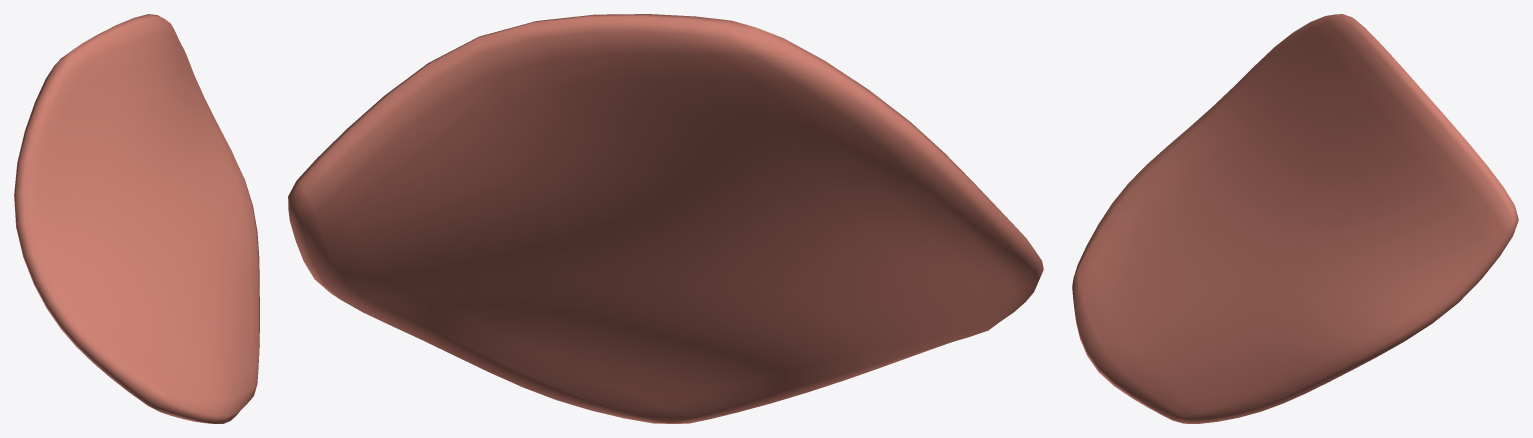
3 renders of one model, left to right at view 1: azimuth 30°, elevation 25°; view 2: azimuth 150°, elevation 25°; view 3: azimuth 270°, elevation 25°, orthographic. The views are drawn at different scales.
Visible parts, largest first — view 1: 左侧腓肠肌外侧头腱下囊; view 2: 左侧腓肠肌外侧头腱下囊; view 3: 左侧腓肠肌外侧头腱下囊.
Part boxes in pixels (x1,y1,x2,y2): 左侧腓肠肌外侧头腱下囊: (14,14,259,423); 左侧腓肠肌外侧头腱下囊: (288,14,1043,423); 左侧腓肠肌外侧头腱下囊: (1072,14,1518,423).
Size of the model in its own units: 0.0225 by 0.0225 by 0.0258.
